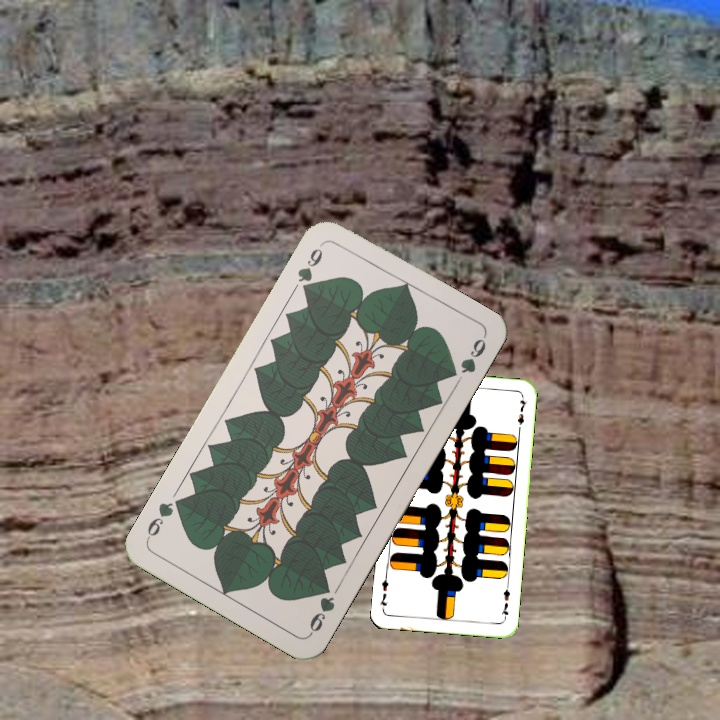E7: (497, 582, 512, 622)
G9: (305, 579, 338, 638), (293, 244, 326, 297)
